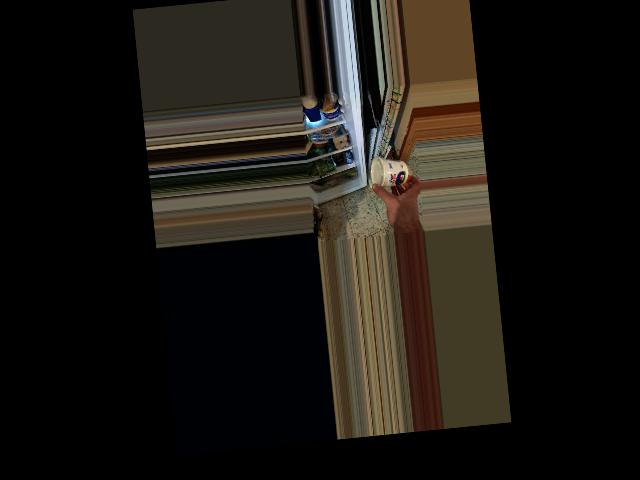cotage: (368, 152, 410, 192)
